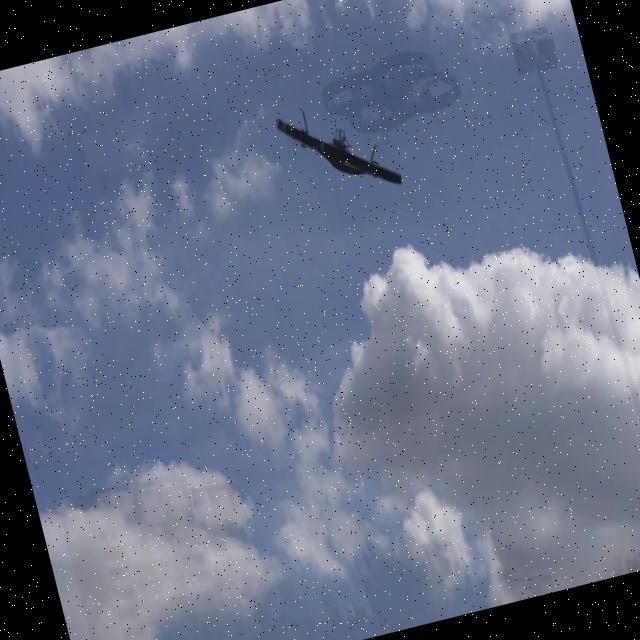Drons: (308, 28, 471, 151), (270, 91, 409, 218)
